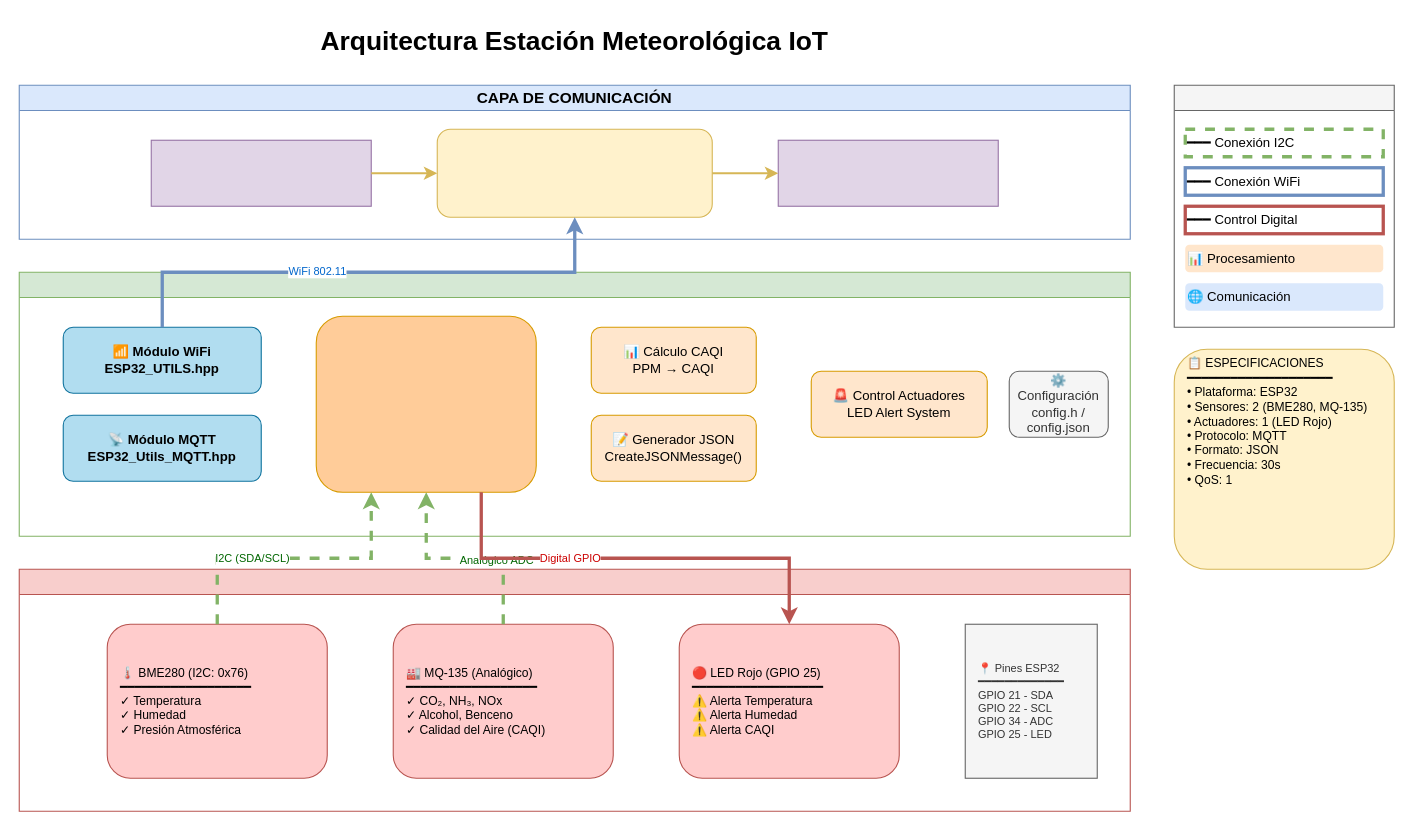
This 1414x831 diagram has some shape labels left out. The shapes that lost their labels are listed below. From the top down, each one's box as (x1, y1, x2, y2) in pixels, then its label:
(150, 139, 371, 206): 📤 Tópico Publicación uah/alcala/weather/data
(436, 128, 712, 217): MQTT Broker test.mosquitto.org
(777, 139, 998, 206): 📥 Tópico Control uah/alcala/weather/control
(1173, 84, 1394, 327): LEYENDA
(315, 315, 536, 492): ⚙️ Procesador Principal main.ino
(18, 271, 1130, 536): CAPA DE PROCESAMIENTO (ESP32)
(18, 568, 1130, 811): CAPA DE SENSORES Y ACTUADORES
